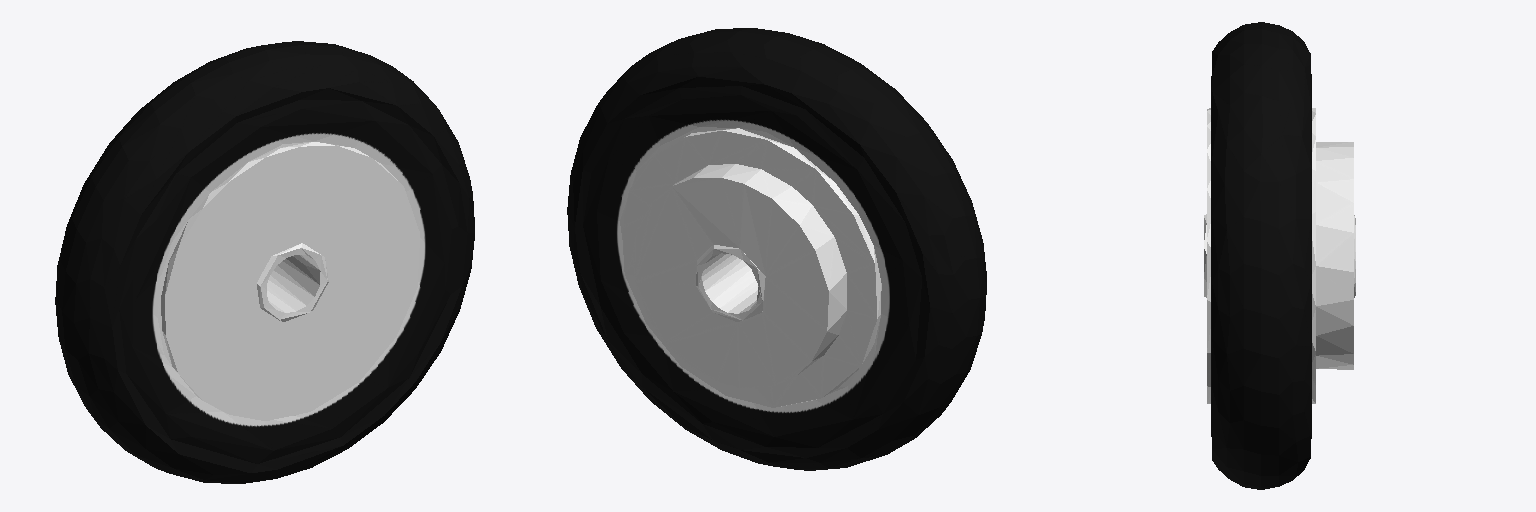
3 renders of one model, left to right at view 1: azimuth 30°, elevation 25°; view 2: azimuth 150°, elevation 25°; view 3: azimuth 270°, elevation 25°, orthographic.
Parts seen in each view (by area): view 1: /ambf/env/pr2/fr_caster_r_wheel_link_/ambf/env/pr2/fr_caster_r_w; view 2: /ambf/env/pr2/fr_caster_r_wheel_link_/ambf/env/pr2/fr_caster_r_w; view 3: /ambf/env/pr2/fr_caster_r_wheel_link_/ambf/env/pr2/fr_caster_r_w.
Boxes of the visible parts, box(x1,y1,x2,y2) form: /ambf/env/pr2/fr_caster_r_wheel_link_/ambf/env/pr2/fr_caster_r_w: box(55, 41, 474, 483); /ambf/env/pr2/fr_caster_r_wheel_link_/ambf/env/pr2/fr_caster_r_w: box(567, 28, 986, 470); /ambf/env/pr2/fr_caster_r_wheel_link_/ambf/env/pr2/fr_caster_r_w: box(1204, 22, 1355, 489).
Size of the model in its own units: 0.1588 by 0.1588 by 0.0517.
1 materials, 1 textured.